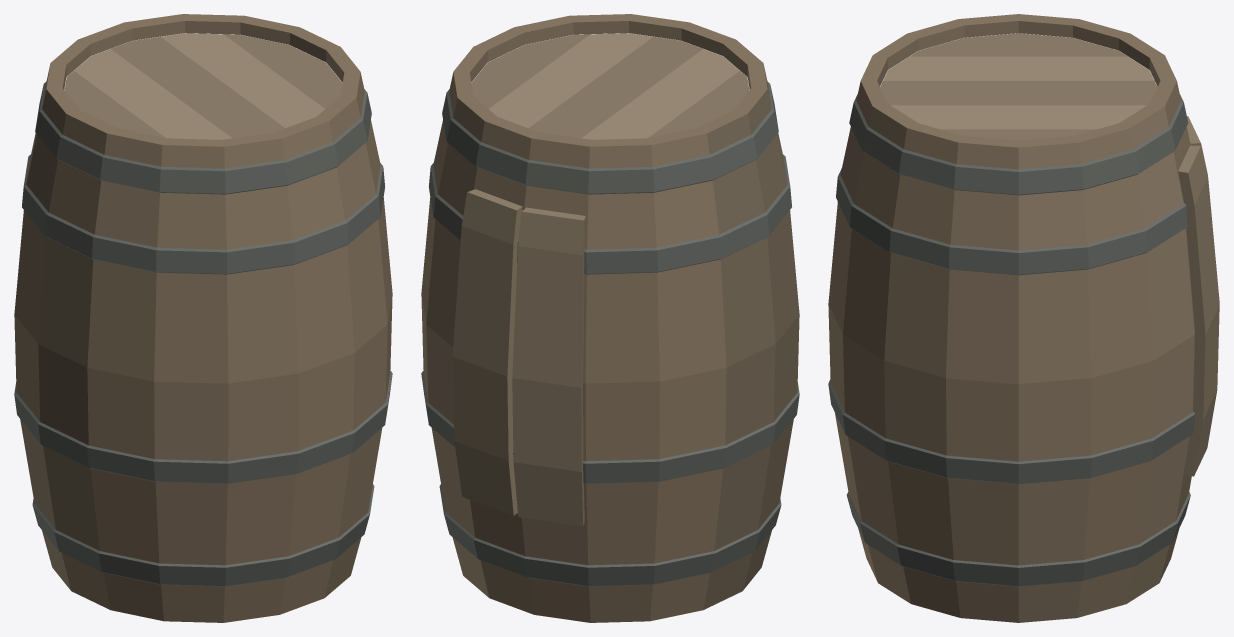
The model's file is env_barrel_v04_stave_repairs.glb.
3 views of the same model, side by side, from view 1: azimuth 30°, elevation 25°; view 2: azimuth 150°, elevation 25°; view 3: azimuth 270°, elevation 25° (orthographic).
Parts seen in each view (by area): view 1: material_0, material_3, material_2, material_5, material_4; view 2: material_0, material_6, material_3, material_2, material_5, material_4; view 3: material_0, material_5, material_3, material_4, material_6.
Part boxes in pixels (x1,y1,x2,y2): material_0: (26, 14, 392, 622); material_3: (14, 81, 392, 586); material_2: (14, 89, 110, 609); material_5: (64, 34, 342, 138); material_4: (74, 33, 324, 139); material_0: (421, 14, 787, 622); material_6: (452, 189, 585, 526); material_3: (421, 81, 799, 586); material_2: (703, 89, 799, 609); material_5: (426, 34, 749, 597); material_4: (489, 33, 739, 139); material_0: (828, 14, 1195, 622); material_5: (880, 33, 1194, 622); material_3: (828, 94, 1195, 586); material_4: (883, 56, 1154, 129); material_6: (1178, 116, 1219, 476).
Size of the model in its own units: 0.6505 by 0.9 by 0.6682.
